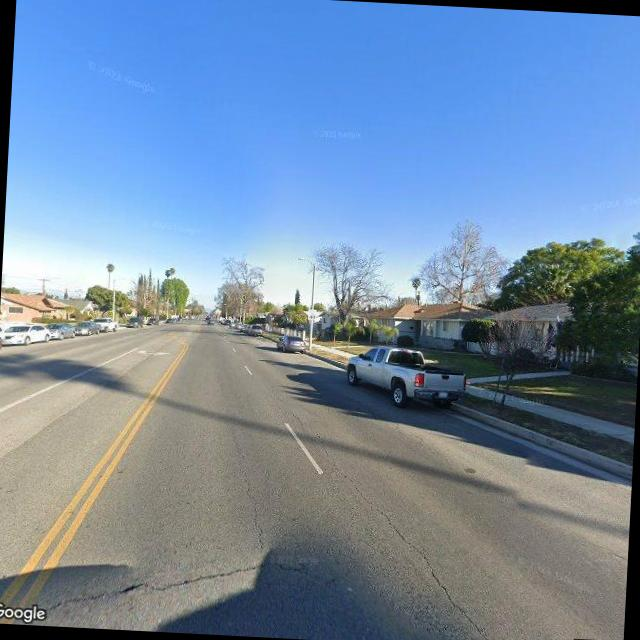crack: (301, 439, 504, 640), (46, 551, 266, 620), (223, 428, 273, 552)
